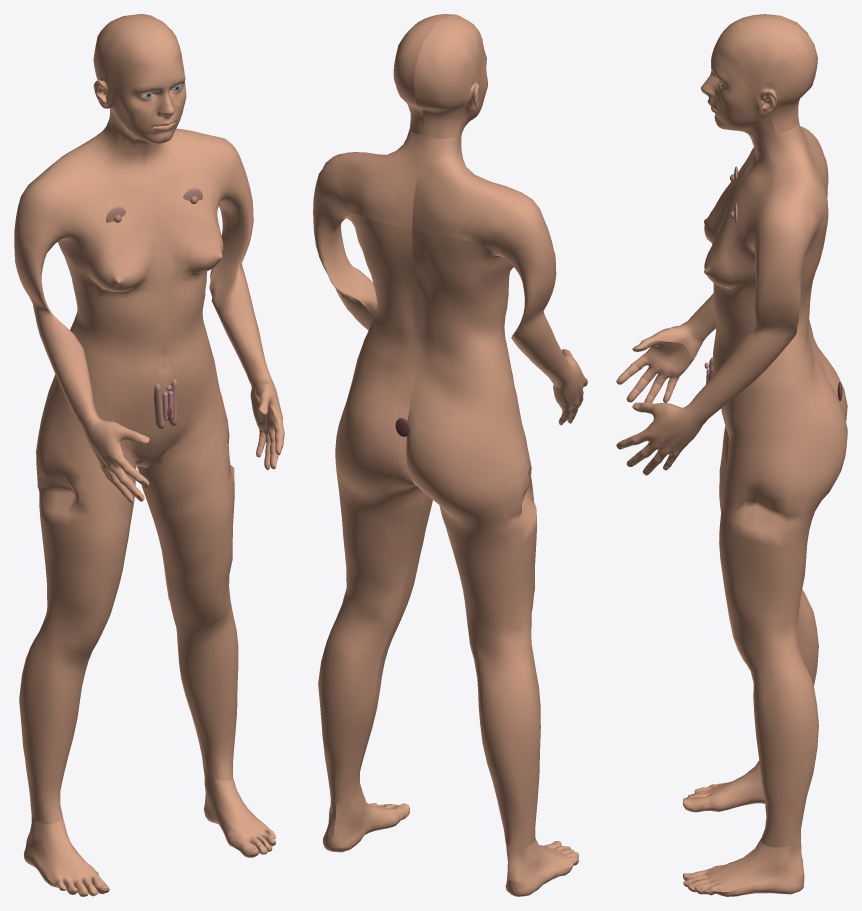
File: body-erwachsener-weiblich-real-v3.glb
3 renders of one model, left to right at view 1: azimuth 30°, elevation 25°; view 2: azimuth 150°, elevation 25°; view 3: azimuth 270°, elevation 25°, orthographic.
Parts seen in each view (by area): view 1: real-human-body; view 2: real-human-body; view 3: real-human-body.
Boxes of the visible parts, x1,y1,x2,y2 form: real-human-body: (14, 14, 284, 896); real-human-body: (313, 14, 587, 896); real-human-body: (616, 14, 847, 896).
Size of the model in its own units: 0.4963 by 1.72 by 0.4346.
Materials: 8 (1 with a texture image).
